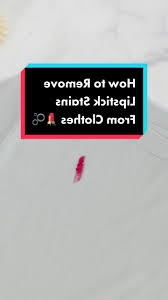lipstick: (70, 149, 90, 183)
